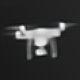plane: (5, 19, 80, 61)
